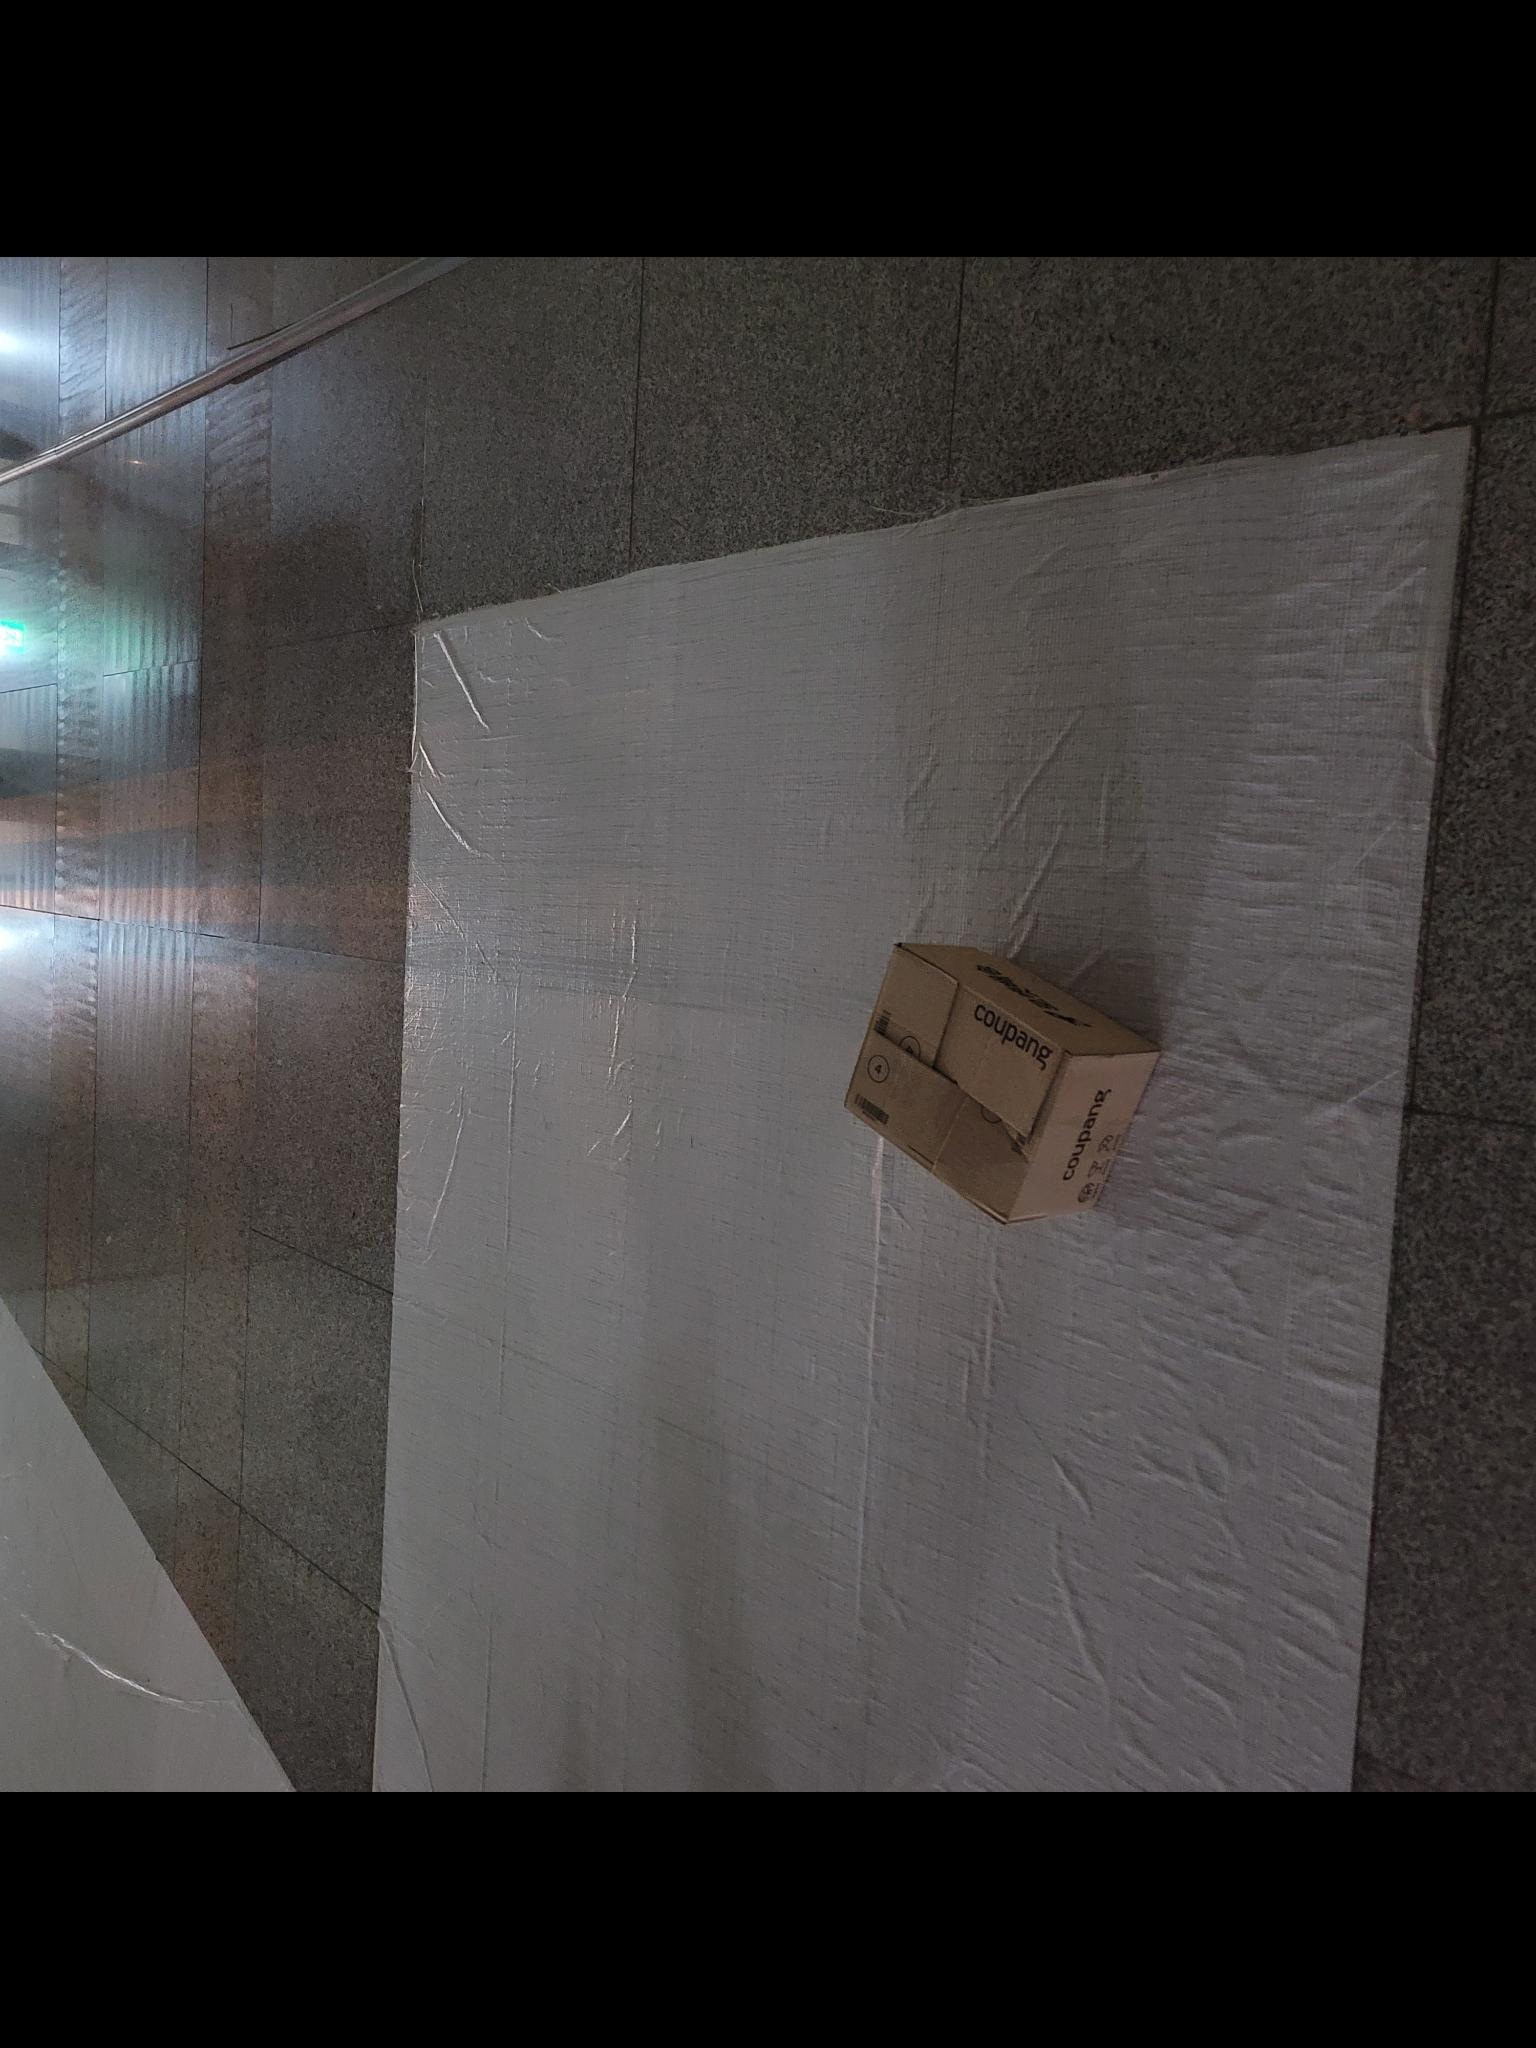Box: (812, 921, 1155, 1235)
